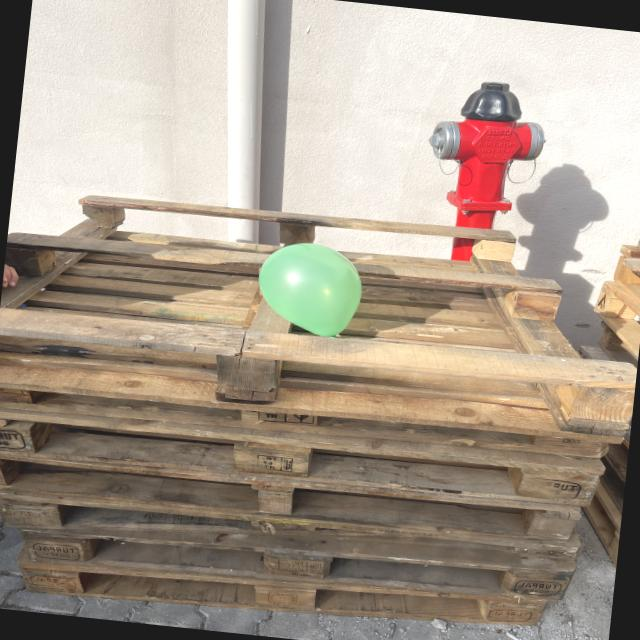balloon: (258, 243, 362, 336)
